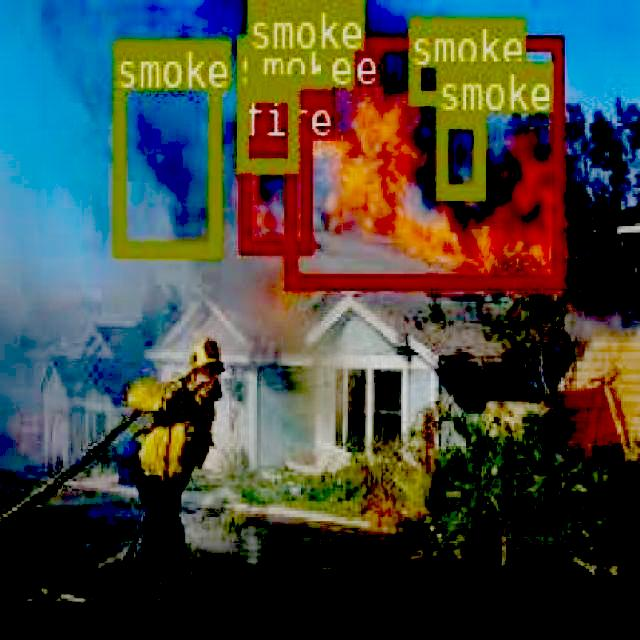fire: (284, 36, 560, 284), (238, 137, 308, 250)
smoke: (112, 36, 218, 255), (247, 1, 330, 87), (408, 16, 470, 102), (233, 86, 296, 168), (434, 111, 483, 197)
